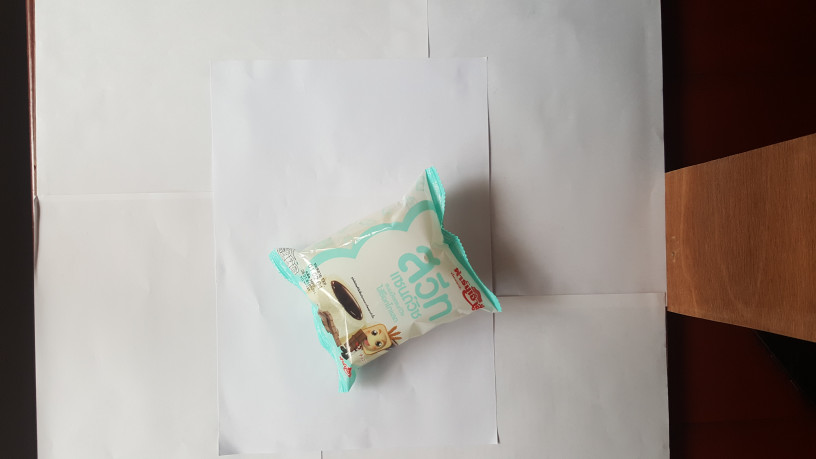farmhouse-sweetsandwich-chocolate: (265, 167, 504, 392)
